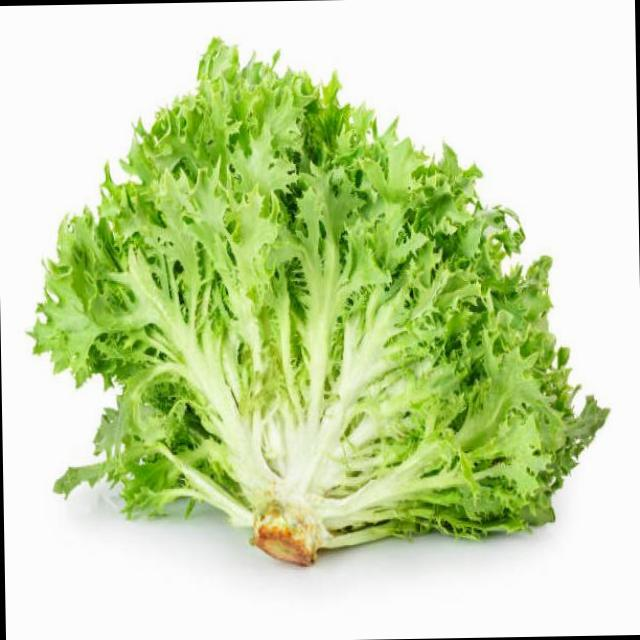Lettuce-Ready-to-Harvest: (27, 38, 610, 568)
